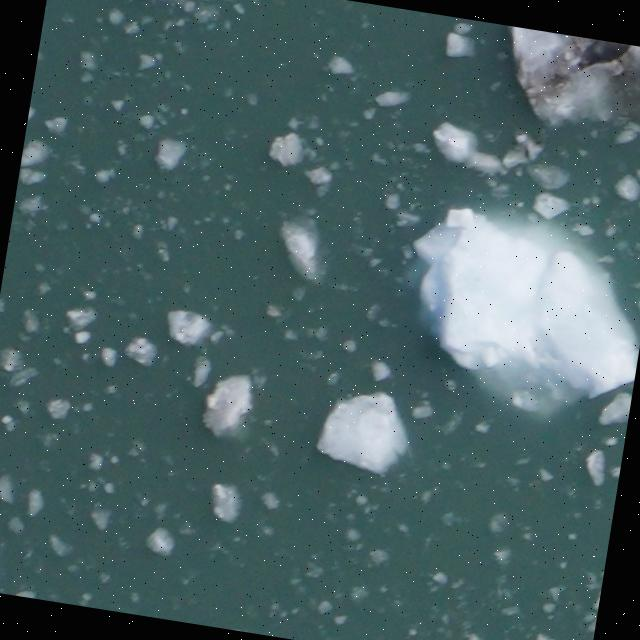seal: (568, 36, 640, 86)
